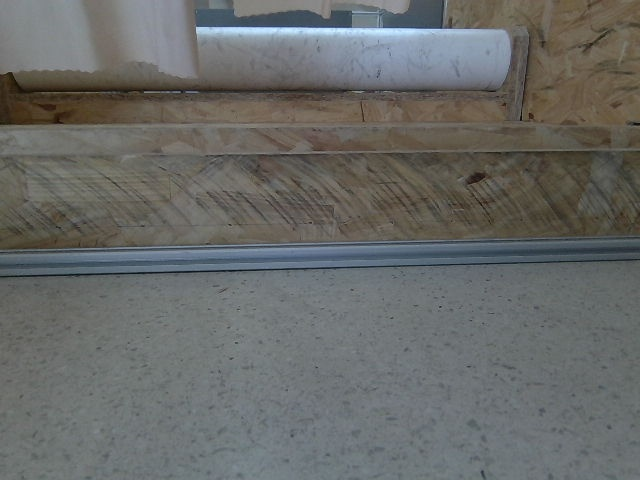curtain: (0, 0, 192, 67)
